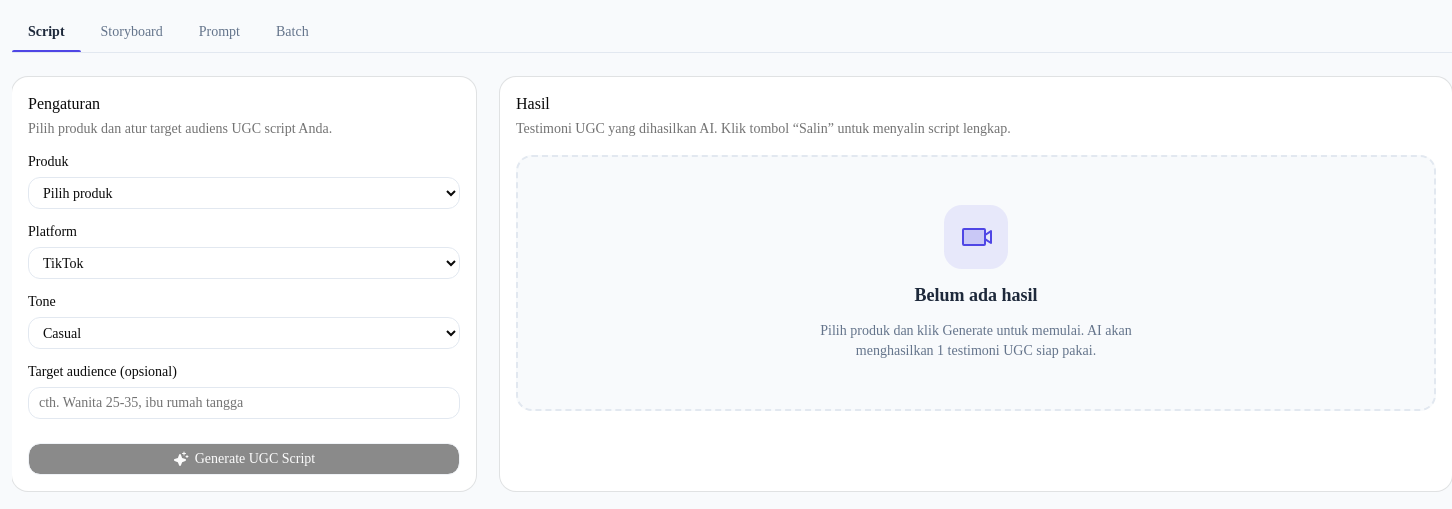
Test: UgcGenerator › switches to the Storyboard tab and shows the storyboard form (no audience field)
The image size is (1452, 509).
Click the tab "Storyboard" at [132, 32], box left=85, top=12, right=179, bottom=52
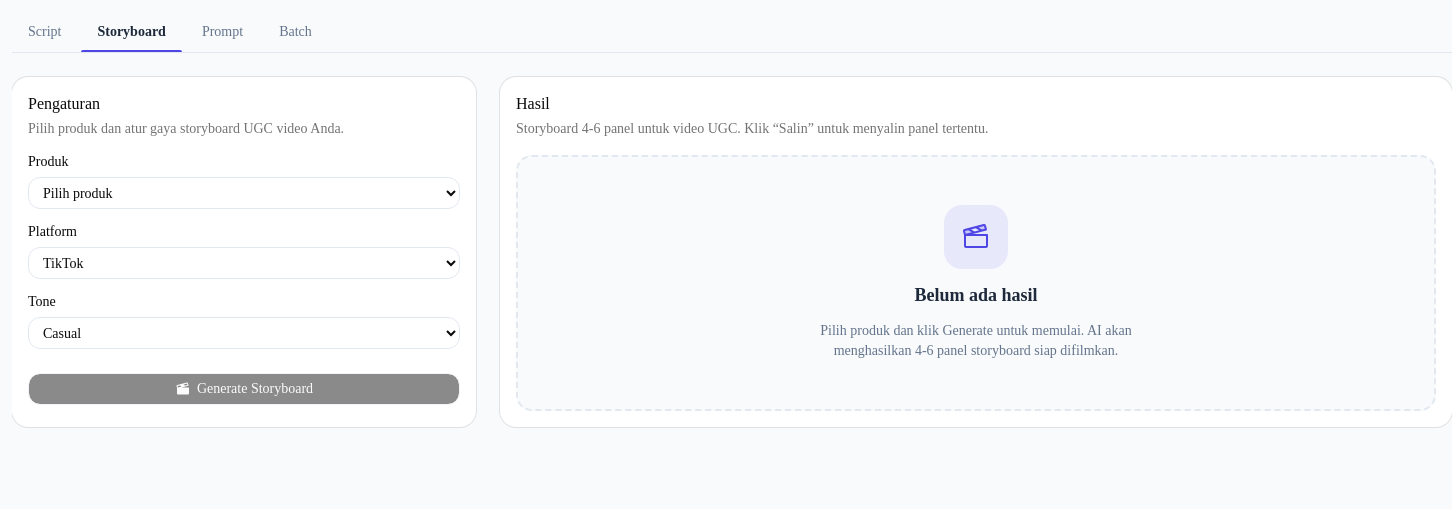
expect the dropdown labelled "Produk" is shown: met, box left=28, top=177, right=460, bottom=209
expect the label labelled "Target audience" is gone: met
